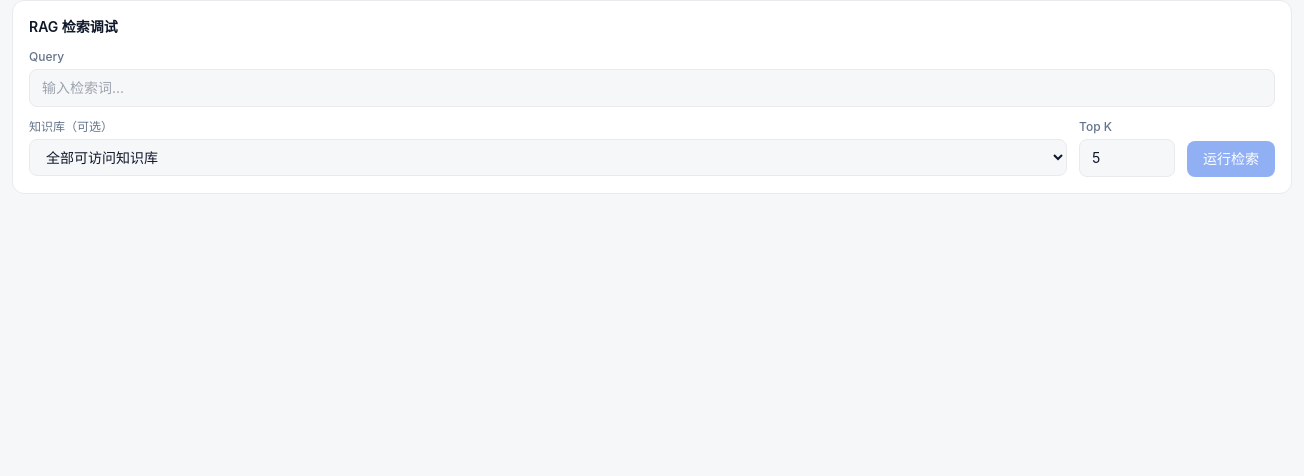
Test case: RAGDebugPanel › 成功后显示 document_title / score / snippet
Type "试用期" into the field with placeholder "输入检索词..." at [652, 88], box [29,69,1275,107]
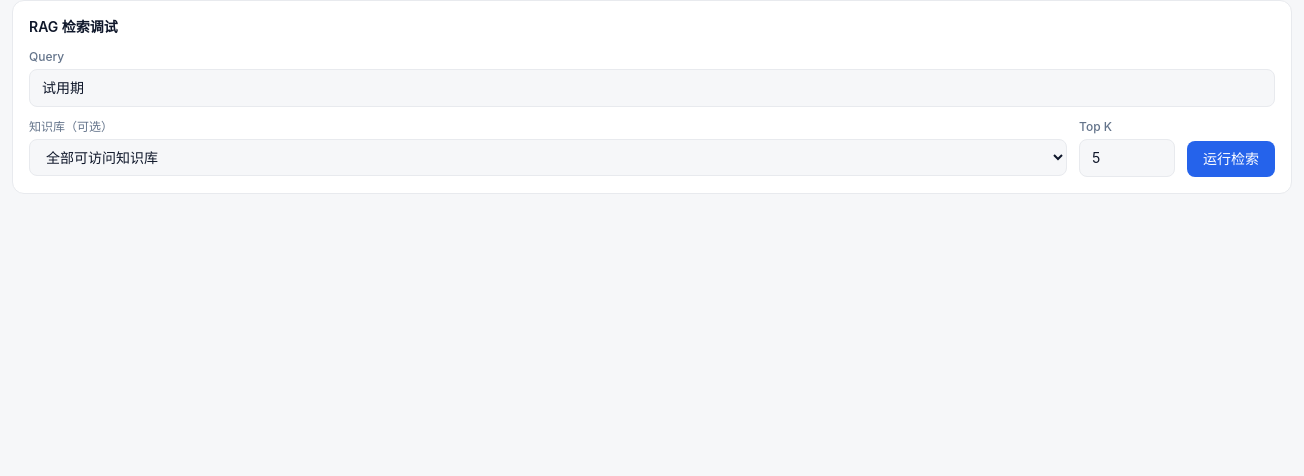
Click the button "运行检索" at [1231, 159], box [1187,141,1275,177]
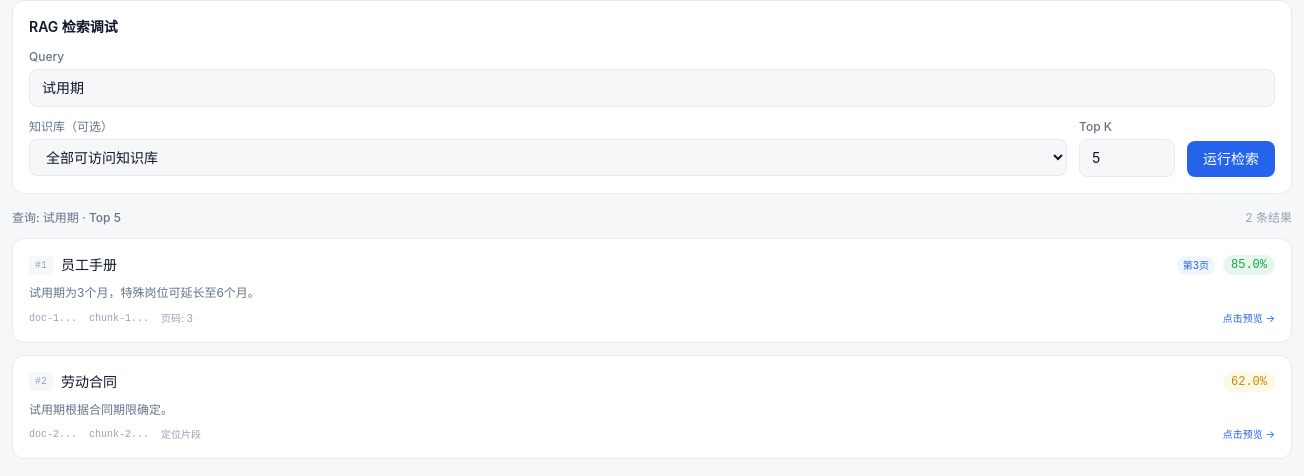
Check: the text "员工手册" is shown, box [61,255,117,275]
Check: the text "劳动合同" is shown, box [61,372,117,392]
Check: the text "试用期为3个月，特殊岗位可延长至6个月。" is shown, box [29,285,260,300]
